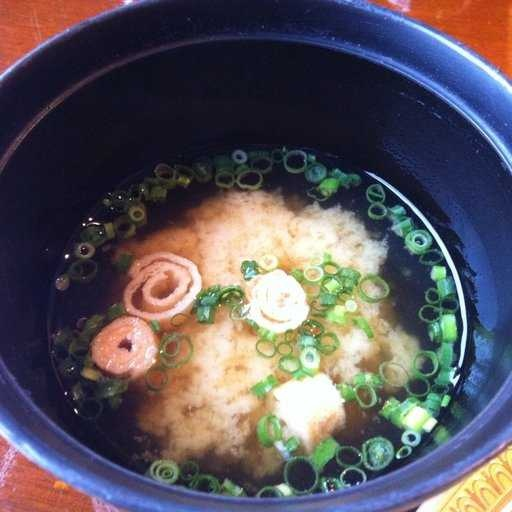soup: (30, 113, 452, 490)
